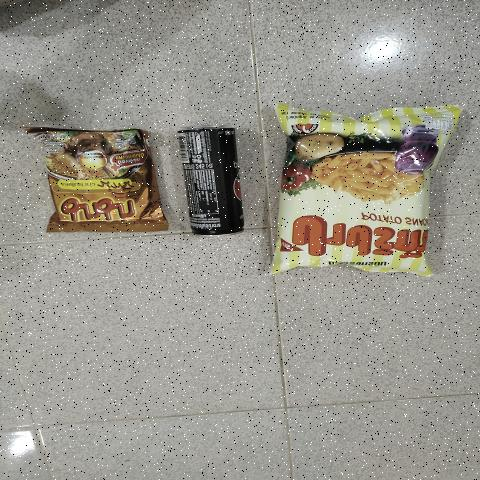mama: (57, 139, 144, 228)
paprika: (289, 124, 410, 262)
pepsi_black: (191, 132, 232, 236)
